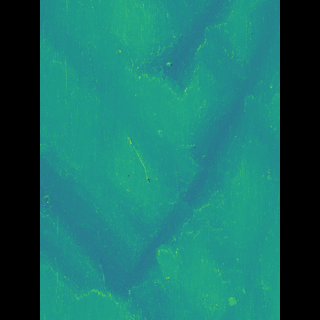Loch: (132, 101, 219, 290), (70, 131, 151, 320), (100, 0, 220, 93)
